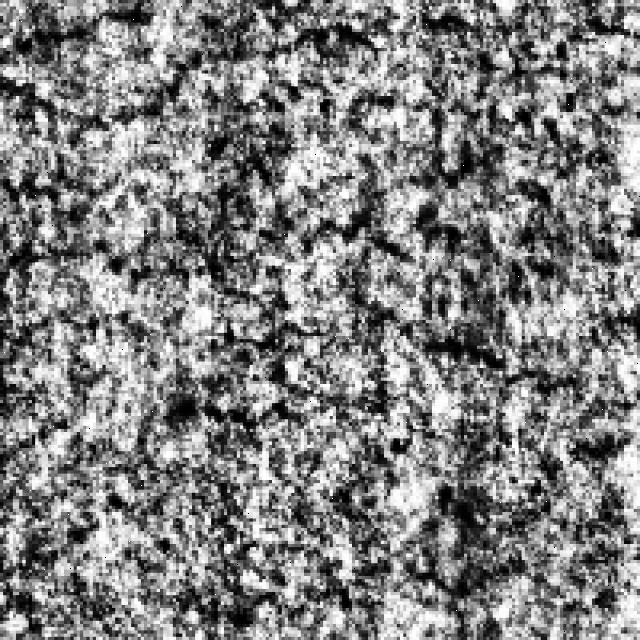Pitted_Surface: (9, 118, 518, 276), (6, 0, 397, 131), (179, 278, 541, 416)
